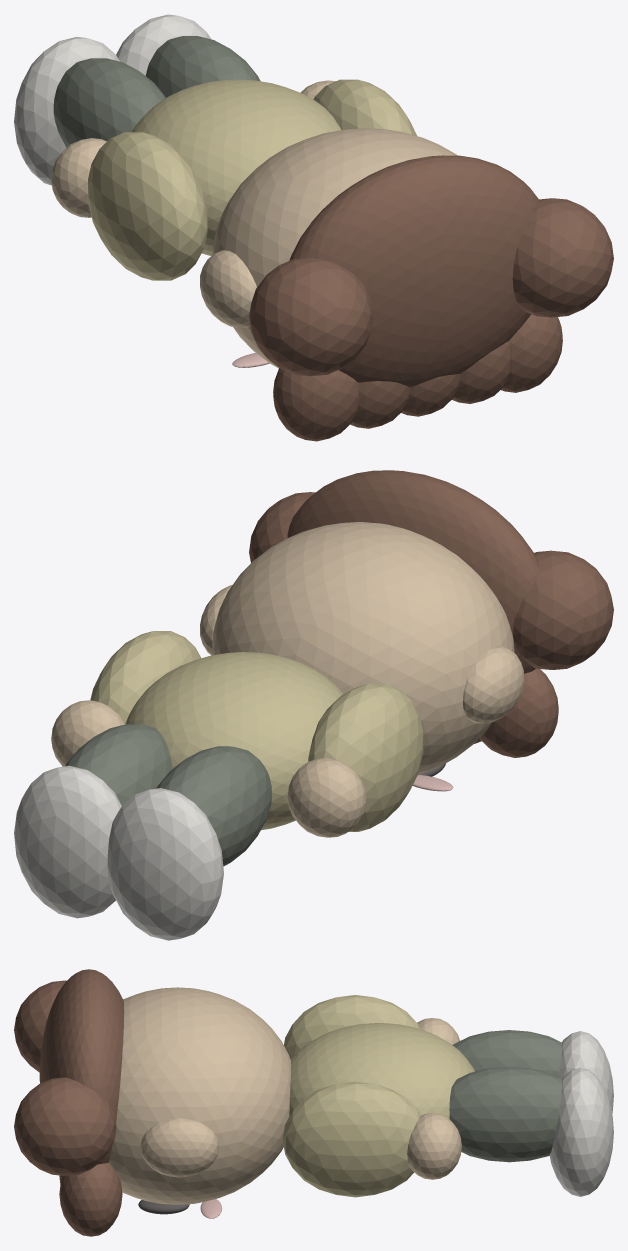
The model's file is operations.glb.
3 views of the same model, one above another, from view 1: azimuth 30°, elevation 25°; view 2: azimuth 150°, elevation 25°; view 3: azimuth 270°, elevation 25° (orthographic). The views are drawn at different scales.
Parts seen in each view (by area): view 1: hair_cap, head_base, body_shirt, sleeve_L, hair_bun_L, hair_bun_R, leg_L, shoe_L, fringe_0, leg_R, sleeve_R, fringe_4 (+6 smaller); view 2: head_base, body_shirt, hair_cap, shoe_L, shoe_R, sleeve_L, hair_bun_L, leg_L, leg_R, hand_L, sleeve_R, fringe_0 (+4 smaller); view 3: head_base, sleeve_R, body_shirt, leg_R, hair_cap, hair_bun_R, shoe_R, ear_R, sleeve_L, leg_L, fringe_4, hand_R (+4 smaller).
Part boxes in pixels (bbox=[...]): hair_cap: bbox=[289, 155, 539, 387]; head_base: bbox=[212, 128, 457, 368]; body_shirt: bbox=[132, 79, 341, 255]; sleeve_L: bbox=[88, 132, 207, 280]; hair_bun_L: bbox=[249, 258, 373, 376]; hair_bun_R: bbox=[512, 198, 613, 317]; leg_L: bbox=[53, 58, 165, 147]; shoe_L: bbox=[14, 36, 119, 185]; fringe_0: bbox=[273, 368, 358, 441]; leg_R: bbox=[145, 36, 260, 97]; sleeve_R: bbox=[313, 79, 416, 135]; fringe_4: bbox=[501, 314, 562, 392]; head_base: bbox=[212, 522, 514, 774]; body_shirt: bbox=[125, 652, 342, 830]; hair_cap: bbox=[287, 470, 539, 673]; shoe_L: bbox=[107, 788, 223, 940]; shoe_R: bbox=[14, 765, 121, 918]; sleeve_L: bbox=[308, 683, 423, 831]; hair_bun_L: bbox=[513, 550, 613, 669]; leg_L: bbox=[156, 746, 271, 866]; leg_R: bbox=[65, 724, 172, 805]; hand_L: bbox=[287, 758, 366, 837]; sleeve_R: bbox=[90, 631, 200, 723]; fringe_0: bbox=[479, 668, 558, 757]; head_base: bbox=[109, 987, 291, 1204]; sleeve_R: bbox=[282, 1081, 420, 1197]; body_shirt: bbox=[289, 1023, 474, 1119]; leg_R: bbox=[449, 1066, 562, 1162]; hair_cap: bbox=[39, 969, 124, 1164]; hair_bun_R: bbox=[14, 1077, 116, 1175]; shoe_R: bbox=[549, 1067, 613, 1196]; ear_R: bbox=[140, 1118, 219, 1177]; sleeve_L: bbox=[284, 995, 420, 1058]; leg_L: bbox=[453, 1030, 562, 1077]; fringe_4: bbox=[59, 1162, 122, 1236]; hand_R: bbox=[407, 1113, 461, 1179].
Size of the model in its own units: 1.68 by 1.19 by 3.04.
